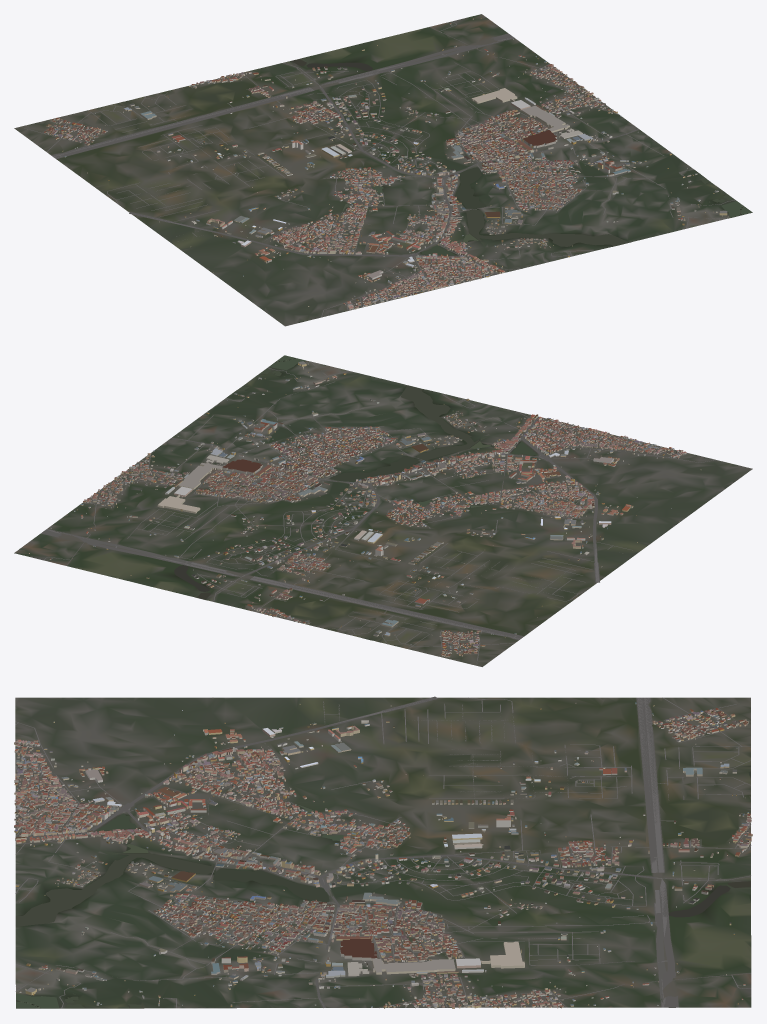
3 renders of one model, top to bottom at view 1: azimuth 30°, elevation 25°; view 2: azimuth 150°, elevation 25°; view 3: azimuth 270°, elevation 25°, orthographic. The views are drawn at different scales.
Visible parts, largest first — view 1: ground, buildings, roads, water; view 2: ground, buildings, roads, water; view 3: ground, buildings, roads, water.
Part boxes in pixels (x1=…): ground: x1=14, y1=14, x2=752, y2=326; buildings: x1=43, y1=18, x2=728, y2=309; roads: x1=24, y1=21, x2=735, y2=317; water: x1=117, y1=59, x2=752, y2=255; ground: x1=14, y1=357, x2=752, y2=666; buildings: x1=23, y1=361, x2=701, y2=657; roads: x1=41, y1=361, x2=716, y2=665; water: x1=174, y1=355, x2=537, y2=641; ground: x1=15, y1=697, x2=751, y2=1008; buildings: x1=14, y1=697, x2=752, y2=1008; roads: x1=15, y1=696, x2=751, y2=1008; water: x1=16, y1=766, x2=750, y2=1008.
Size of the model in its own units: 2818 by 35.26 by 2817.
